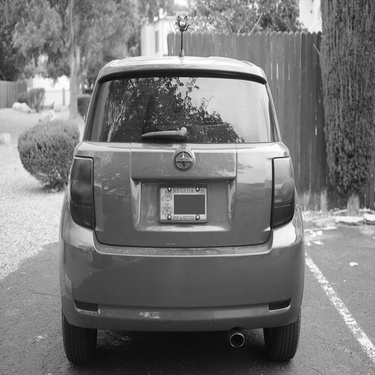car: (42, 13, 310, 367)
